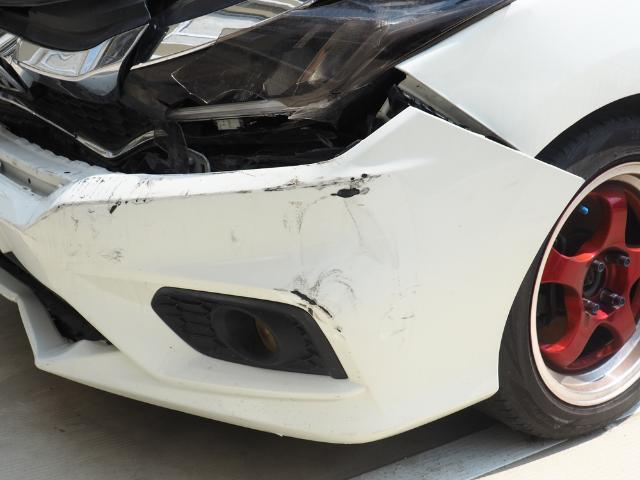dislocated part: (402, 63, 586, 187)
lamp broken: (126, 0, 515, 172)
scratch: (59, 172, 424, 347)
